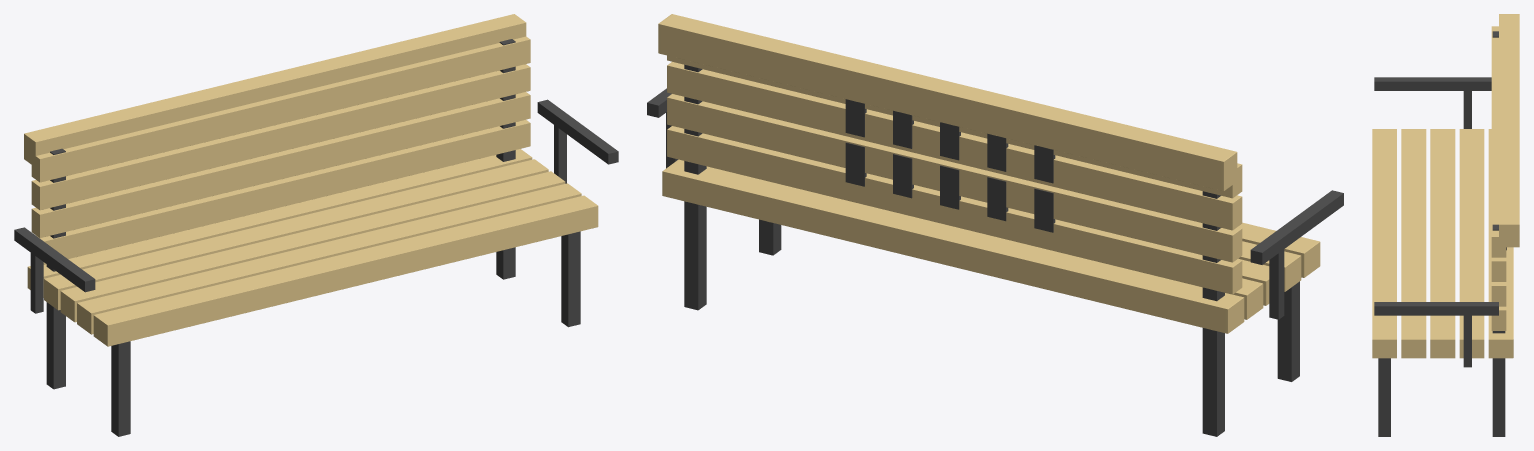
The picture shows the model from 3 angles, left to right: view 1: azimuth 30°, elevation 25°; view 2: azimuth 150°, elevation 25°; view 3: azimuth 270°, elevation 25°; orthographic projection. The views are drawn at different scales.
Visible parts, largest first — view 1: Cube, Cube.008, Cube.007, Cube.009, Cube.006, Cube.005, Cube.001, Cube.002, Cube.003, Cube.004, Cube.012, Cube.011 (+6 smaller); view 2: Cube.005, Cube.004, Cube.006, Cube.007, Cube.008, Cube.009, Cube.012, Cube.013, Cube.014, Cube.010, Cube, Cube.015 (+14 smaller); view 3: Cube.001, Cube.002, Cube, Cube.003, Cube.005, Cube.004, Cube.009, Cube.016, Cube.014, Cube.013, Cube.011, Cube.017 (+4 smaller).
Part boxes in pixels (box(x1,y1,x2,y2)): Cube: box(93, 195, 598, 346); Cube.008: box(31, 64, 530, 210); Cube.007: box(31, 92, 530, 237); Cube.009: box(31, 36, 530, 182); Cube.006: box(36, 119, 530, 264); Cube.005: box(24, 14, 526, 166); Cube.001: box(77, 183, 581, 334); Cube.002: box(60, 171, 565, 322); Cube.003: box(44, 159, 548, 310); Cube.004: box(27, 149, 532, 297); Cube.012: box(46, 148, 65, 389); Cube.011: box(561, 231, 580, 327); Cube.005: box(658, 14, 1237, 191); Cube.004: box(662, 159, 1244, 333); Cube.006: box(667, 126, 1242, 294); Cube.007: box(667, 94, 1242, 262); Cube.008: box(667, 61, 1242, 230); Cube.009: box(667, 55, 1242, 198); Cube.012: box(1202, 191, 1224, 436); Cube.013: box(684, 64, 706, 310); Cube.014: box(1250, 190, 1343, 264); Cube.010: box(1277, 281, 1299, 381); Cube: box(1237, 222, 1320, 277); Cube.015: box(1269, 249, 1284, 319); Cube.001: box(1401, 129, 1426, 358); Cube.002: box(1430, 129, 1455, 358); Cube: box(1372, 129, 1396, 358); Cube.003: box(1459, 129, 1484, 358); Cube.005: box(1499, 14, 1519, 247); Cube.004: box(1488, 129, 1513, 358); Cube.009: box(1491, 26, 1506, 257); Cube.016: box(1374, 302, 1498, 315); Cube.014: box(1374, 77, 1491, 90); Cube.013: box(1492, 224, 1505, 436); Cube.011: box(1378, 358, 1390, 436); Cube.017: box(1463, 315, 1471, 367).
Size of the model in its own units: 2.61 by 1.16 by 0.71.
